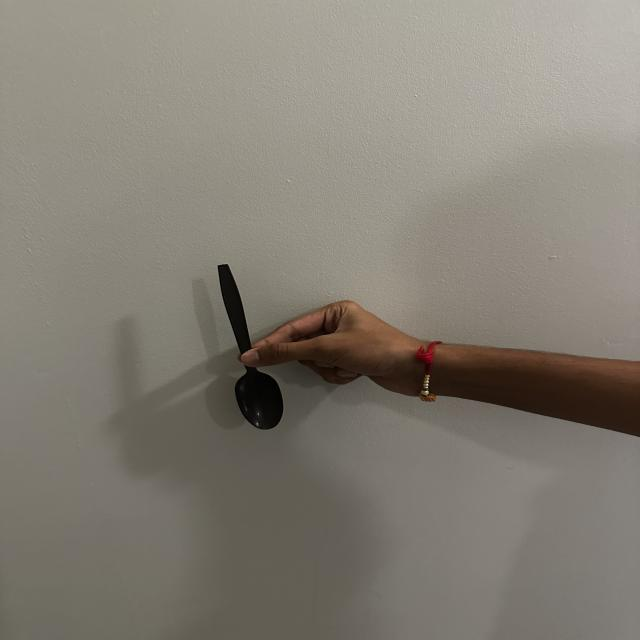spoon: (178, 232, 301, 461)
